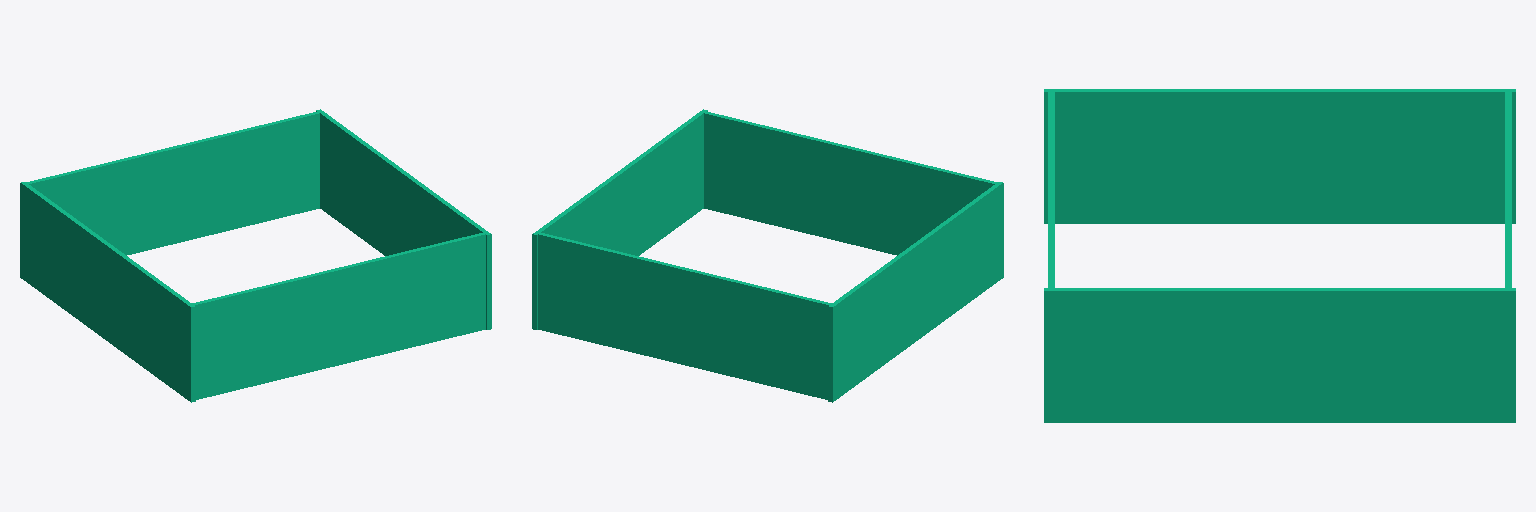
robot.urdf — bowl.urdf:
<?xml version="0.0" ?>
<robot name="bowl.urdf">
  <material name="mainColor">
    <color rgba=".1 .8 .6 1."/>
  </material>
<!--   <material name="mainColor">
    <color rgba=".55 .27 .1 1."/>
  </material> -->
<!--   <material name="mainColor">
    <color rgba="1. 1. 1. 1."/>
  </material> -->
  <material name="grey">
    <color rgba=".5 .5 .5 1."/>
  </material>

  <link name="world"/>

  <link name="base">
    <inertial>
      <origin rpy="0 0 0" xyz="0.0 0.0 0.0"/>
       <mass value=".1"/>
       <inertia ixx="1" ixy="0" ixz="0" iyy="1" iyz="0" izz="1"/>
    </inertial>
    <visual>
      <!-- right -->
      <origin rpy="0 0 0" xyz="0 -.315 0"/>
      <geometry>
        <box size=".65 .01 .2"/>
      </geometry>
      <material name="mainColor"/>
    </visual>
    <visual>
      <!-- left -->
      <origin rpy="0 0 0" xyz="0 .315 0"/>
      <geometry>
        <box size=".65 .01 .2"/>
      </geometry>
      <material name="mainColor"/>
    </visual>
    <visual>
      <!-- front -->
      <origin rpy="0 0 0" xyz=".325 0 0"/>
      <geometry>
        <box size=".01 .65 .2"/>
      </geometry>
      <material name="mainColor"/>
    </visual>
    <visual>
      <!-- back -->
      <origin rpy="0 0 0" xyz="-.325 0 0"/>
      <geometry>
        <box size=".01 .65 .2"/>
      </geometry>
      <material name="mainColor"/>
    </visual>
    <collision>
      <!-- right -->
      <origin rpy="0 0 0" xyz="0 -.45 0"/>
      <geometry>
        <box size="1 .01 .2"/>
      </geometry>
    </collision>
    <collision>
      <!-- left -->
      <origin rpy="0 0 0" xyz="0 .45 0"/>
      <geometry>
        <box size="1 .01 .2"/>
      </geometry>
    </collision>
    <collision>
      <!-- front -->
      <origin rpy="0 0 0" xyz=".45 0 0"/>
      <geometry>
        <box size=".01 1 .2"/>
      </geometry>
    </collision>
    <collision>
      <!-- back -->
      <origin rpy="0 0 0" xyz="-.45 0 0"/>
      <geometry>
        <box size=".01 1 .2"/>
      </geometry>
    </collision>
  </link>

  <joint name="base_joint" type="fixed">
    <parent link="world"/>
    <child link="base"/>
  </joint>

</robot>

--- Render facts (derived) ---
3 views of the same robot in one strip: view 1: azimuth 30°, elevation 25°; view 2: azimuth 150°, elevation 25°; view 3: azimuth 270°, elevation 25° (orthographic).
Robot: bowl.urdf — 2 links, 1 joints (1 fixed); root link world; default pose: all joints at 0.
Links seen in each view (by area): view 1: base; view 2: base; view 3: base.
Link boxes in pixels (box(x1,y1,x2,y2)): base: box(20, 109, 491, 402); base: box(532, 109, 1003, 402); base: box(1044, 89, 1515, 422).
Size in the robot's own frame: 0.66 by 0.65 by 0.2 metres.
Geometry: primitives only (box / cylinder / sphere), no mesh files.